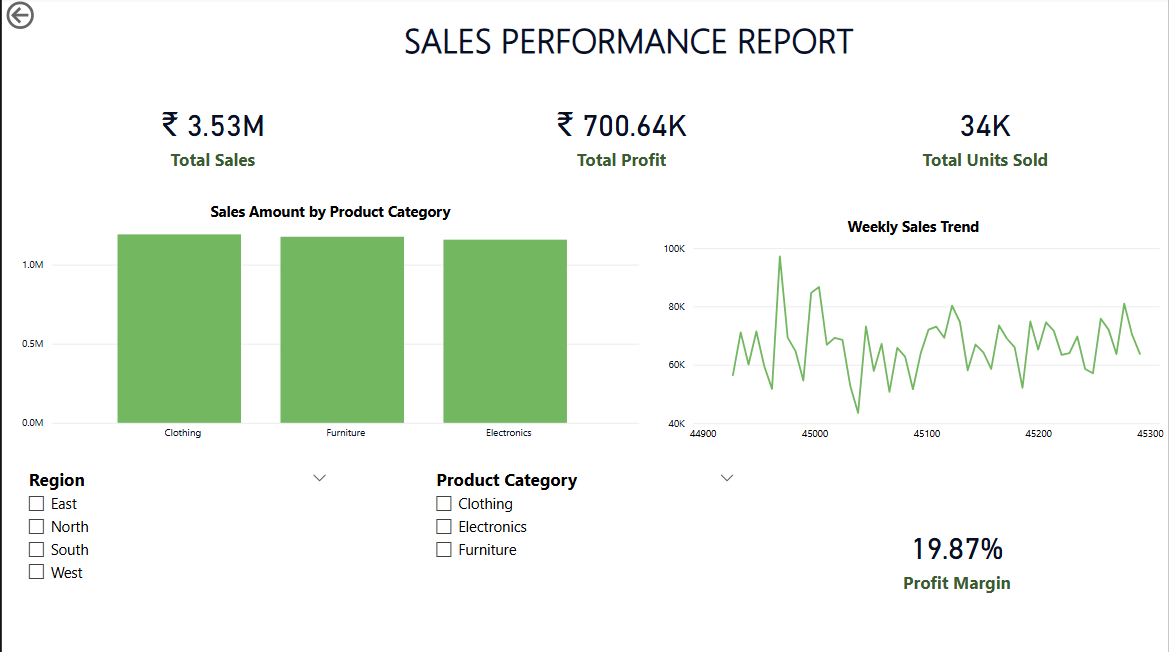

This screenshot's page, from the dashboard's own definition file:
{"tool":"powerbi","page":{"name":"Page 1","canvas":[1280,720],"ordinal":0},"visuals":[{"type":"card","fields":{"Values":["Sum(Sheet1.Sales Amount)"]},"box":[32,80,400,144],"z":0},{"type":"card","fields":{"Values":["Sum(Sheet1.Profit)"]},"box":[480,80,400,144],"z":1000},{"type":"actionButton","box":[0,0,100,40],"z":2000},{"type":"card","fields":{"Values":["Sum(Sheet1.Quantity Sold)"]},"box":[880,80,400,144],"z":3000},{"type":"columnChart","title":"Sales Amount by Product Category","fields":{"Category":["Sheet1.Product Category"],"Y":["Sum(Sheet1.Sales Amount)"]},"box":[16,224,688,272],"z":4000},{"type":"lineChart","title":"Weekly Sales Trend","fields":{"Category":["Sheet1.Date"],"Y":["Sum(Sheet1.Sales Amount)"]},"box":[720,240,560,256],"z":5000},{"type":"slicer","fields":{"Values":["Sheet1.Region"]},"box":[16,512,352,208],"z":6000},{"type":"card","fields":{"Values":["Sheet1.Profit Margin"]},"box":[816,512,464,208],"z":7000},{"type":"textbox","box":[144,16,1088,64],"z":8000},{"type":"slicer","fields":{"Values":["Sheet1.Product Category"]},"box":[464,512,352,208],"z":9000}]}

Visuals, with their boxes in screenshot pixels (x1, y1, x2, y2), scaled from the page's 1280x720 canvas onto the 1169x652 screenshot:
card - Sum(Sheet1.Sales Amount): 29:72:395:203
card - Sum(Sheet1.Profit): 438:72:804:203
actionButton: 0:0:91:36
card - Sum(Sheet1.Quantity Sold): 804:72:1168:203
"Sales Amount by Product Category" columnChart: 15:203:643:449
"Weekly Sales Trend" lineChart: 658:217:1168:449
slicer - Sheet1.Region: 15:464:336:651
card - Sheet1.Profit Margin: 745:464:1168:651
textbox: 132:14:1125:72
slicer - Sheet1.Product Category: 424:464:745:651
